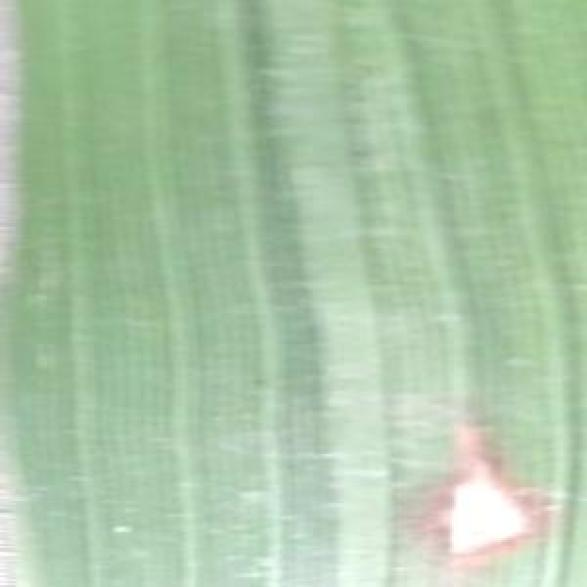Leaf_smut: (401, 386, 554, 568)
